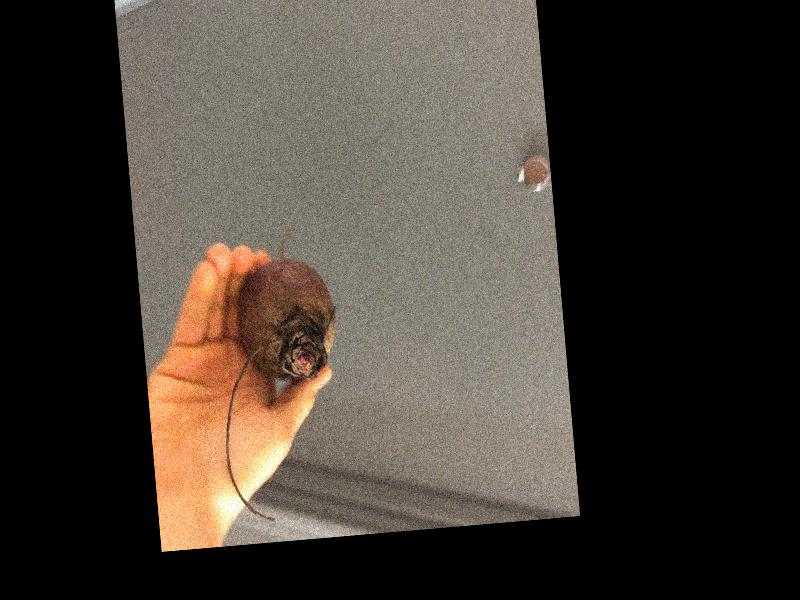Beet: (205, 222, 351, 522)
